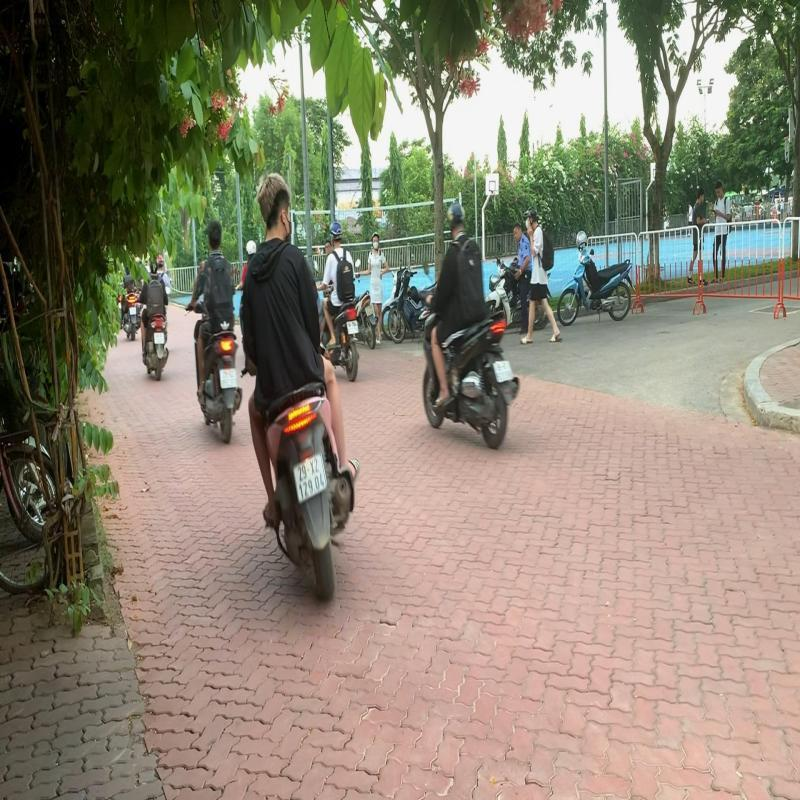nohelmet: (256, 170, 295, 236)
